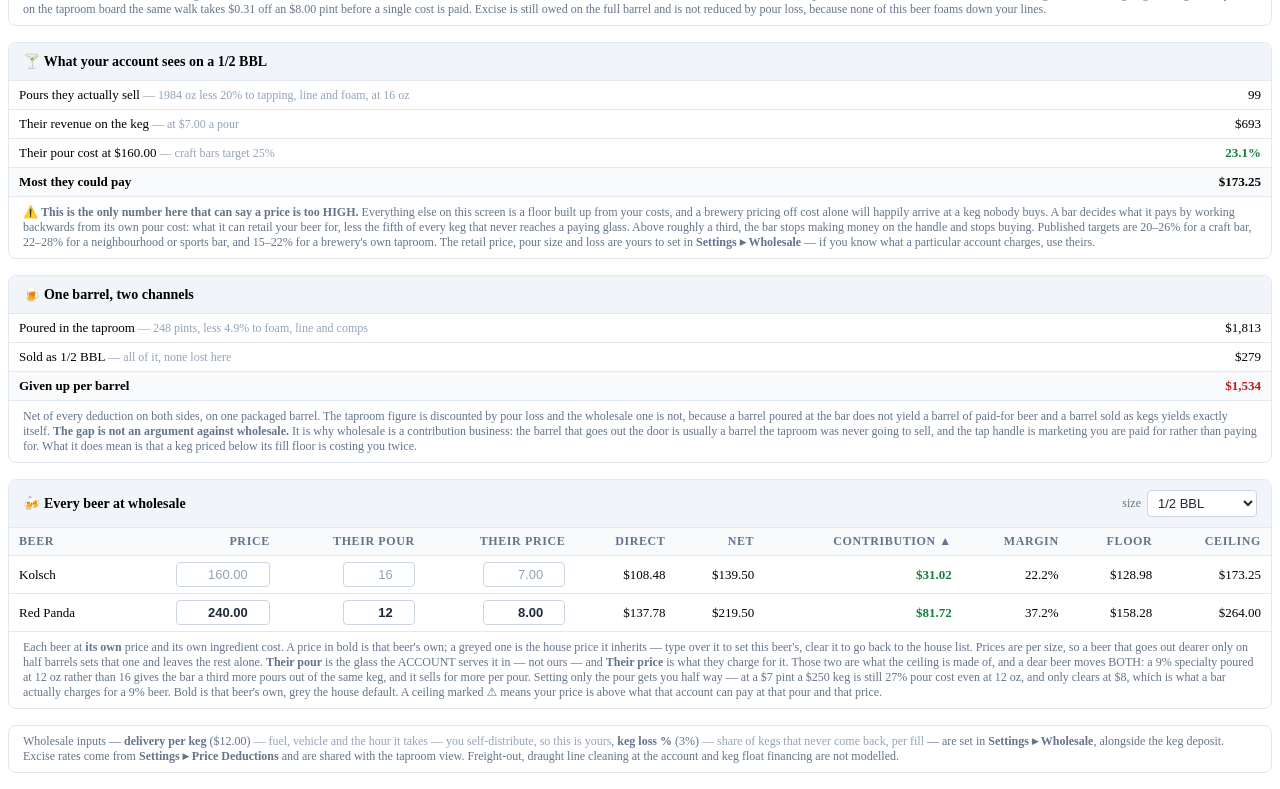
Scenario: WholesalePanel › every beer at wholesale › does not carry a typed price across a size switch
(page scrolled)
Replace the text in the number field named "Wholesale price for Red Panda" with "999" at (223, 612), box [176,600,270,625]
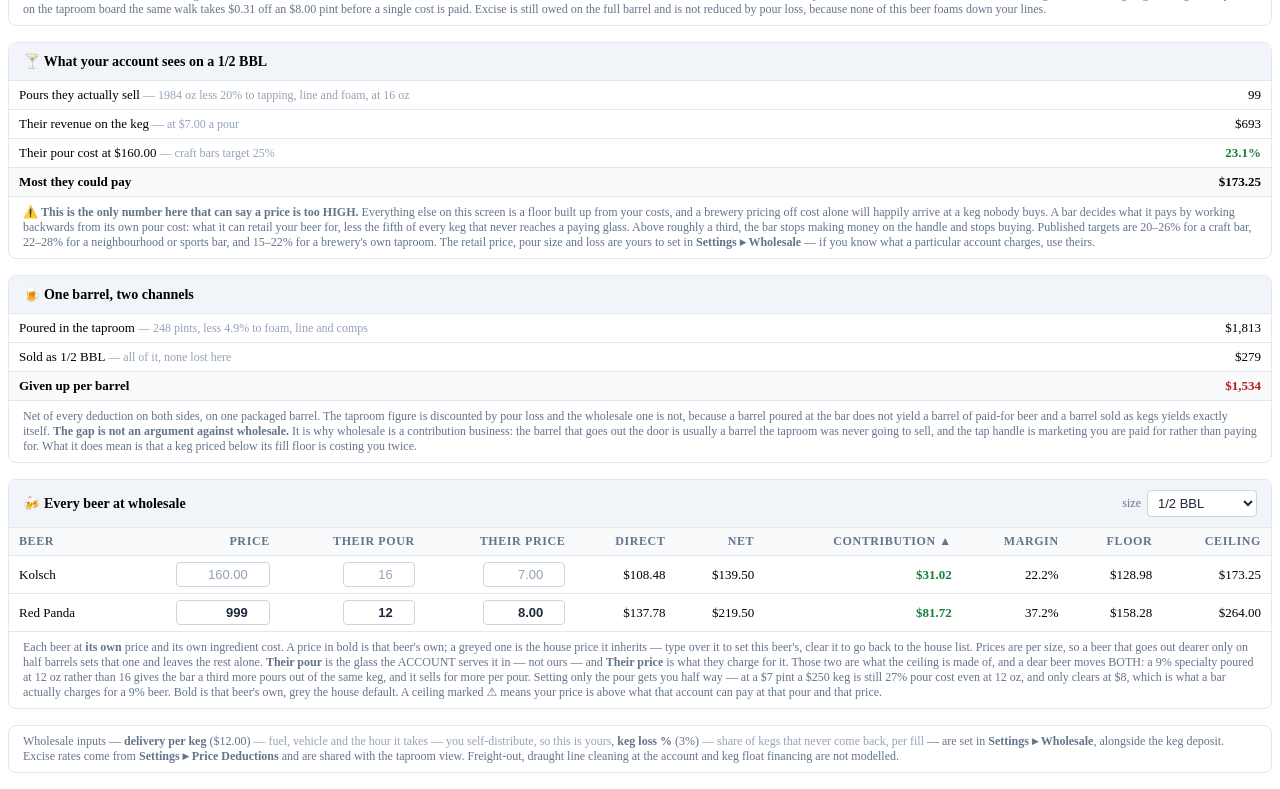
Select "1/6 BBL" in the dropdown labelled "size" at (1202, 504), box [1147,490,1257,517]
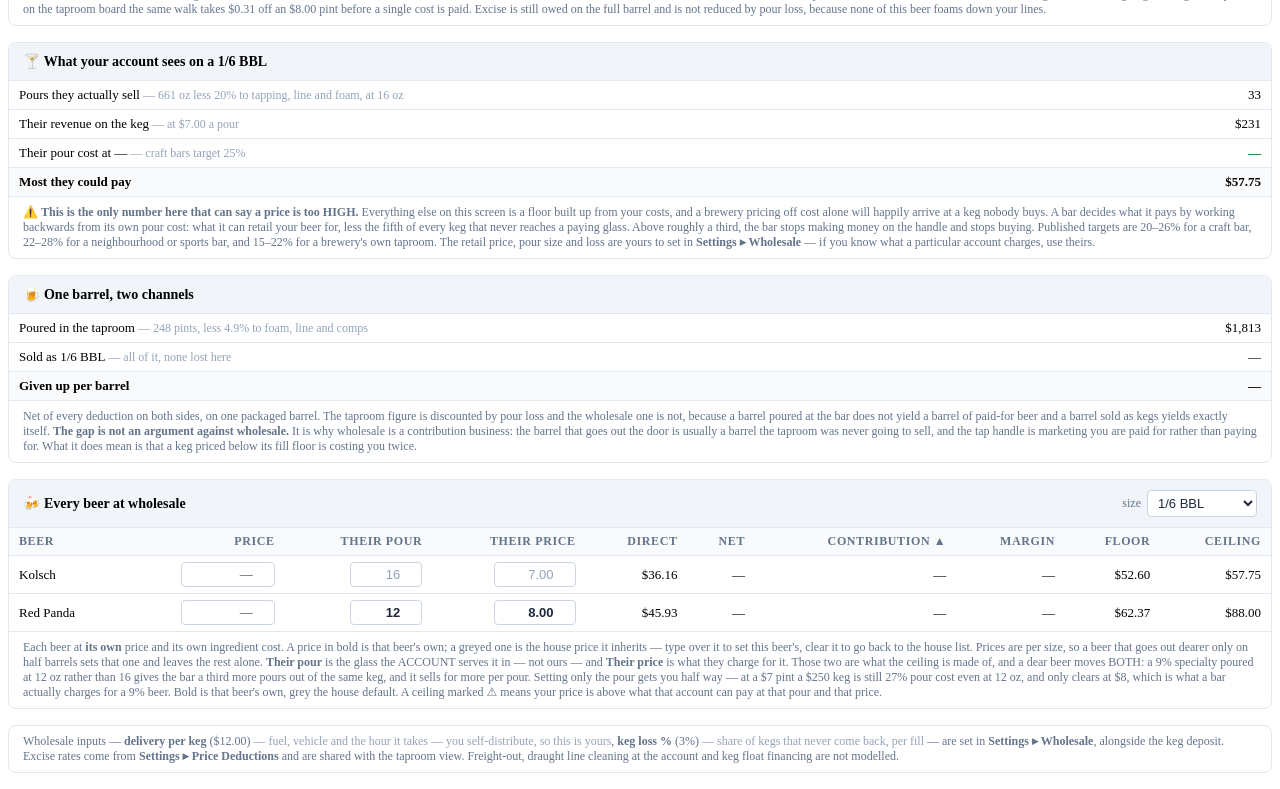
expect the number field named "Wholesale price for Red Panda" does not hold "999": met, box [181,600,275,625]
expect the number field named "Wholesale price for Red Panda" is not empty: met, box [181,600,275,625]
